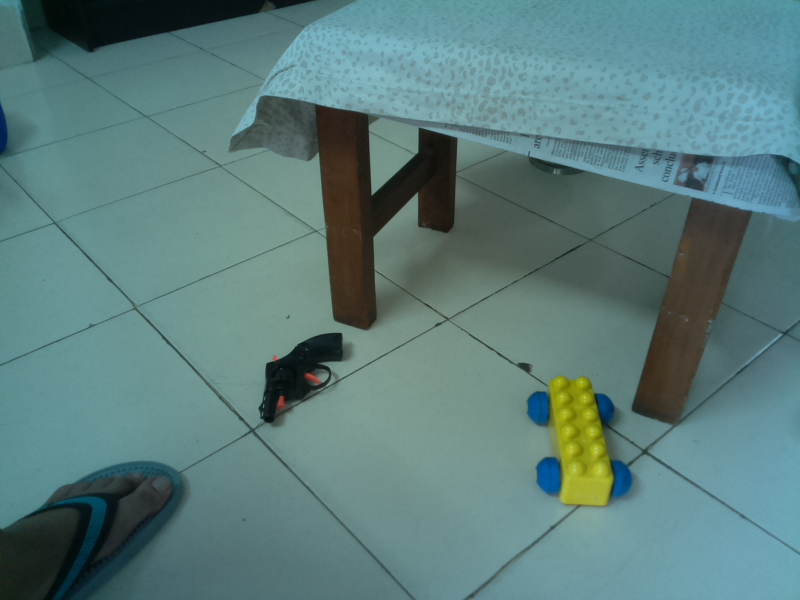Gun: (250, 324, 350, 428)
toy_Car: (516, 367, 639, 510)
